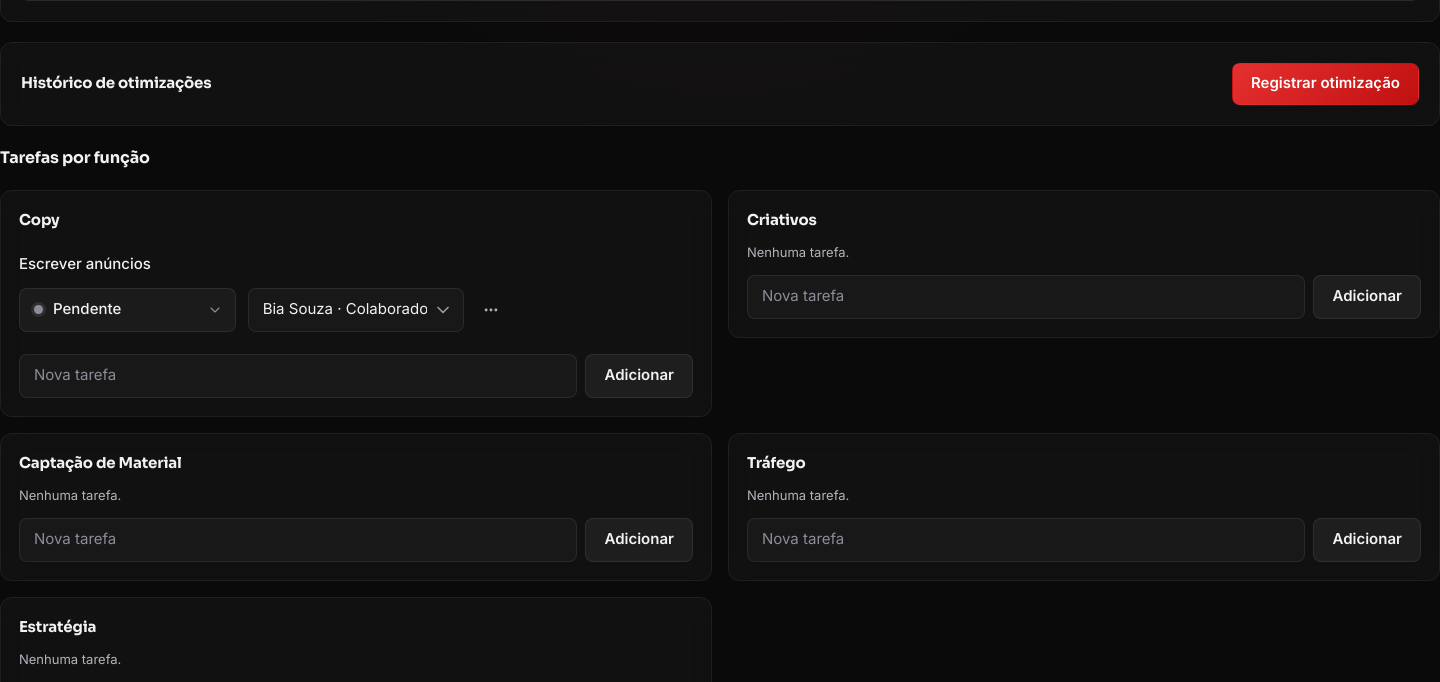
Test case: CampanhaPage › desfaz e avisa quando o banco recusa a troca de status
(page scrolled)
Expected: the text "Escrever anúncios" is shown, [19, 254, 151, 273]
Click the dropdown labelled "Pendente".
click(127, 310)  # box [19, 288, 236, 332]
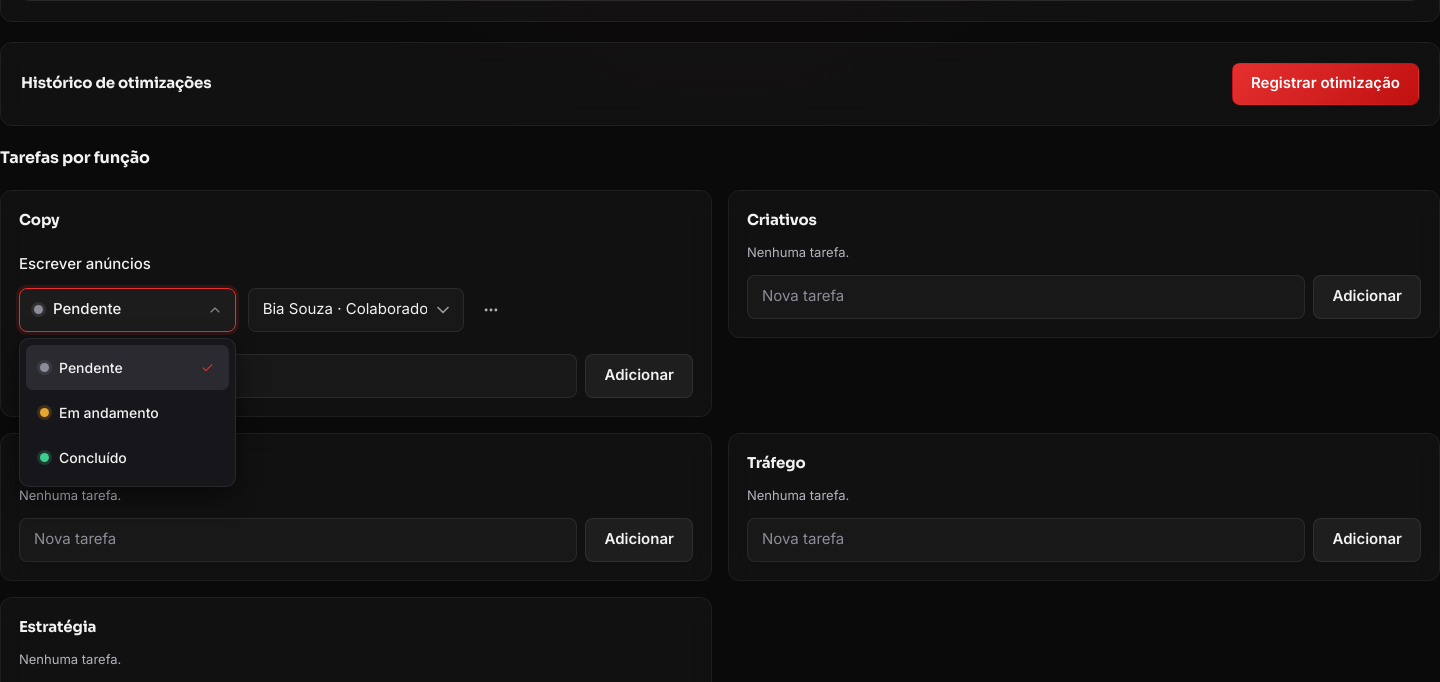
Click the option "Concluído".
click(83, 457)  # box [40, 448, 127, 466]
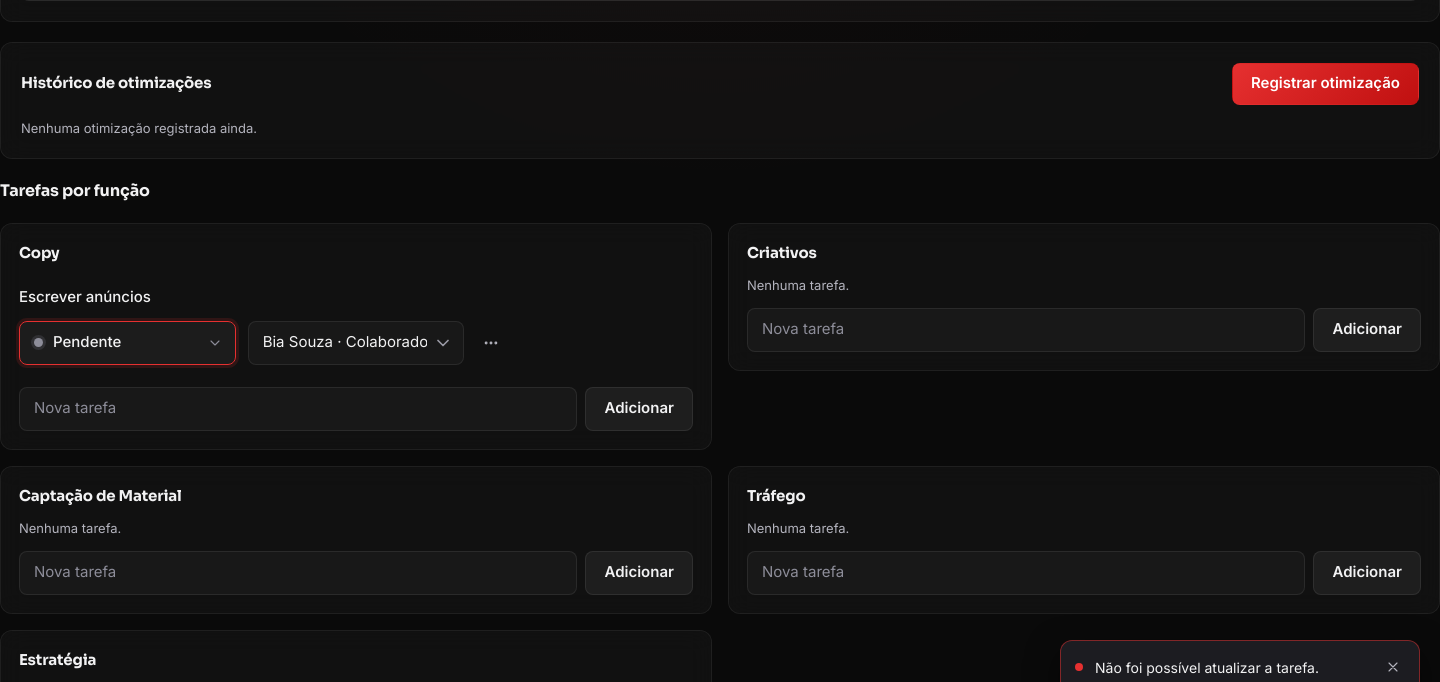
Expected: the text "Não foi possível atualizar a tarefa." is shown, [1095, 658, 1319, 676]
